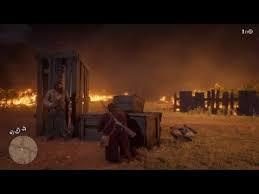fire: (0, 79, 38, 107), (86, 88, 118, 102)
